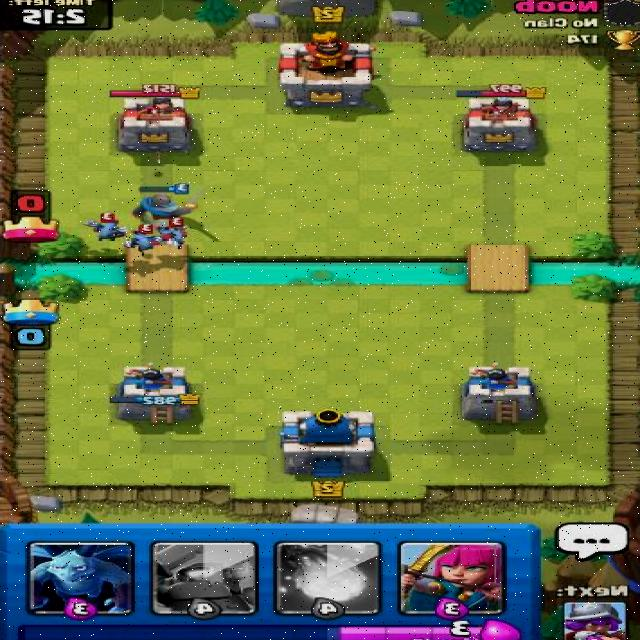Enemy-Minion: (122, 223, 164, 257), (84, 212, 130, 243), (156, 217, 192, 250)
Player-Knight: (128, 181, 205, 230)
